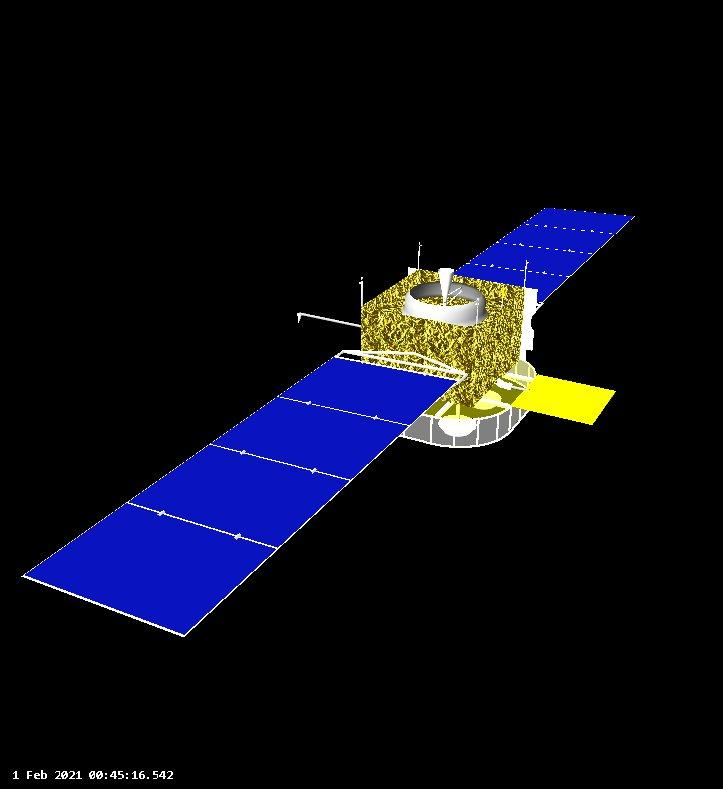antenna: (510, 372, 617, 428), (294, 310, 367, 330), (436, 413, 478, 438), (473, 390, 504, 411), (522, 258, 531, 291), (473, 294, 481, 329), (358, 274, 365, 308), (416, 239, 422, 273)
body: (360, 266, 537, 451)
solar: (19, 353, 458, 639), (446, 207, 637, 313)
thruster: (435, 267, 457, 310)
